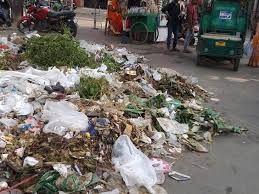garbage: (1, 36, 103, 194), (89, 66, 196, 194), (62, 50, 155, 194)
